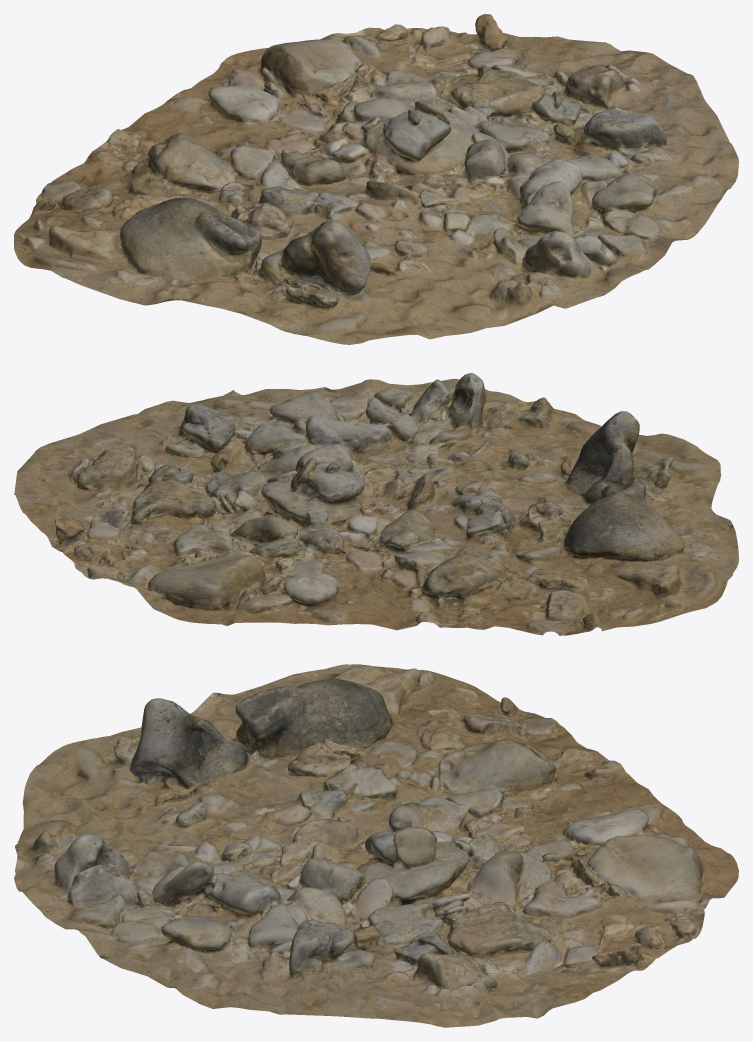
Rendered from sand_rocks_small_01.glb.
3 views of the same model, one above another, from view 1: azimuth 30°, elevation 25°; view 2: azimuth 150°, elevation 25°; view 3: azimuth 270°, elevation 25° (orthographic). The views are drawn at different scales.
Visible parts, largest first — view 1: sand_rocks_small_01_LOD0; view 2: sand_rocks_small_01_LOD0; view 3: sand_rocks_small_01_LOD0.
Part boxes in pixels (x1=…): sand_rocks_small_01_LOD0: x1=14, y1=14, x2=738, y2=344; sand_rocks_small_01_LOD0: x1=14, y1=373, x2=738, y2=635; sand_rocks_small_01_LOD0: x1=14, y1=664, x2=738, y2=1027.
Bounding box in the file's own units: 4.63 × 0.5348 × 3.88.
1 material, 1 textured.
